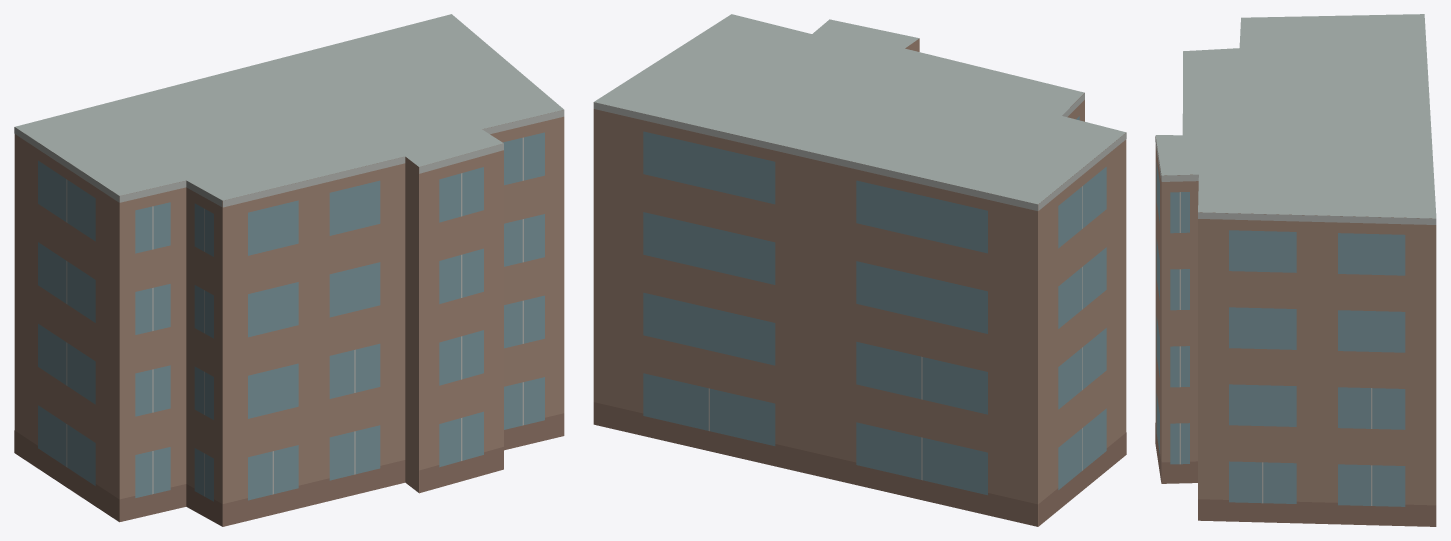
File: survey-upis-32555877.glb
3 renders of one model, left to right at view 1: azimuth 30°, elevation 25°; view 2: azimuth 150°, elevation 25°; view 3: azimuth 270°, elevation 25°, orthographic. The views are drawn at different scales.
Visible parts, largest first — view 1: survey-upis-32555877.tmp; view 2: survey-upis-32555877.tmp; view 3: survey-upis-32555877.tmp.
Part boxes in pixels (<box>): survey-upis-32555877.tmp: <box>14,14,564,526</box>; survey-upis-32555877.tmp: <box>593,14,1126,526</box>; survey-upis-32555877.tmp: <box>1155,14,1436,526</box>.
Size of the model in its own units: 16.44 by 11.55 by 9.55.
